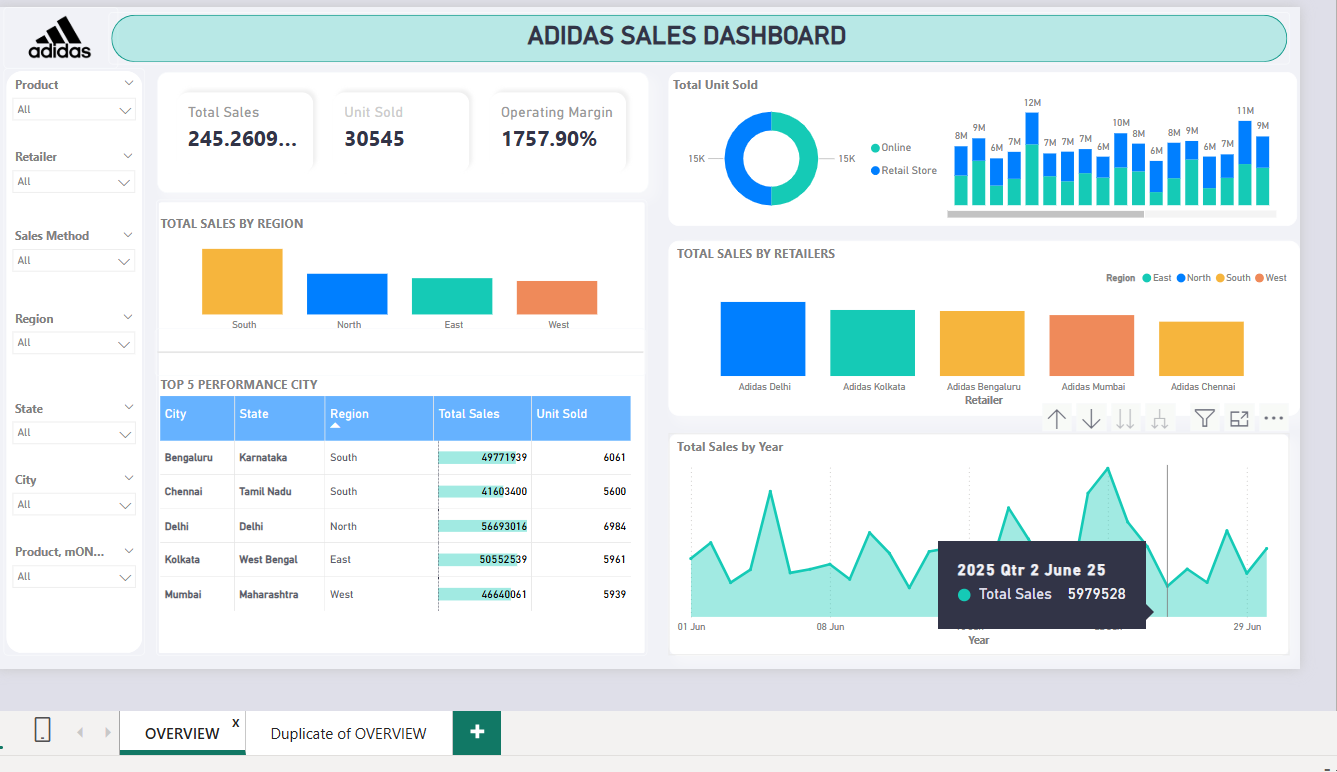

The dashboard page shown, as its layout file describes it:
{"tool":"powerbi","page":{"name":"OVERVIEW","canvas":[1490,757],"ordinal":0},"visuals":[{"type":"shape","box":[768.6,74.3,718.6,175.7],"z":0},{"type":"cardVisual","fields":{"Data":["measures (2).Total Sales","measures (2).Unit Sold","measures (2).Operating Margin"]},"box":[184.3,74.3,561.4,138.6],"z":1000},{"type":"donutChart","title":"Total Unit Sold","fields":{"Y":["measures (2).Unit Sold"],"Category":["Adidas_India_Sales_Dataset_1100_Rows.Sales Method"]},"box":[768.6,78.6,321.4,171.4],"z":2000},{"type":"columnChart","fields":{"Y":["measures (2).Total Sales"],"Category":["Adidas_India_Sales_Dataset_1100_Rows.Invoice Date.Variation.Date Hierarchy.Year","Adidas_India_Sales_Dataset_1100_Rows.Invoice Date.Variation.Date Hierarchy.Quarter","Adidas_India_Sales_Dataset_1100_Rows.Invoice Date.Variation.Date Hierarchy.Month","Adidas_India_Sales_Dataset_1100_Rows.Invoice Date.Variation.Date Hierarchy.Day"],"Series":["Adidas_India_Sales_Dataset_1100_Rows.Sales Method"]},"box":[1058.6,74.3,410,171.4],"z":3000},{"type":"columnChart","title":"TOTAL SALES BY RETAILERS","fields":{"Category":["Adidas_India_Sales_Dataset_1100_Rows.Retailer"],"Y":["measures (2).Total Sales"],"Series":["Adidas_India_Sales_Dataset_1100_Rows.Region"]},"box":[768.6,267.1,721.4,200],"z":4000},{"type":"areaChart","title":"Total Sales by Date","fields":{"Category":["Adidas_India_Sales_Dataset_1100_Rows.Invoice Date.Variation.Date Hierarchy.Year","Adidas_India_Sales_Dataset_1100_Rows.Invoice Date.Variation.Date Hierarchy.Quarter","Adidas_India_Sales_Dataset_1100_Rows.Invoice Date.Variation.Date Hierarchy.Month","Adidas_India_Sales_Dataset_1100_Rows.Invoice Date.Variation.Date Hierarchy.Day"],"Y":["measures (2).Total Sales"]},"box":[768.6,487.1,710,254.3],"z":5000},{"type":"shape","box":[182.9,220,561.4,521.4],"z":6000},{"type":"columnChart","title":"TOTAL SALES BY REGION","fields":{"Y":["measures (2).Total Sales"],"Category":["Adidas_India_Sales_Dataset_1100_Rows.Region"],"Series":["Adidas_India_Sales_Dataset_1100_Rows.Region"]},"box":[182.9,237.1,561.4,141.4],"z":7000},{"type":"pivotTable","title":"TOP 5 PERFORMANCE CITY","fields":{"Rows":["Adidas_India_Sales_Dataset_1100_Rows.City","Adidas_India_Sales_Dataset_1100_Rows.State","Adidas_India_Sales_Dataset_1100_Rows.Region"],"Values":["measures (2).Total Sales","measures (2).Unit Sold"]},"box":[182.9,421.4,560,294.3],"z":8000},{"type":"shape","box":[8.6,70,161.4,671.4],"z":9000},{"type":"slicer","fields":{"Values":["Adidas_India_Sales_Dataset_1100_Rows.Product"]},"box":[8.6,74.9,161.4,85.7],"z":10000},{"type":"slicer","fields":{"Values":["Adidas_India_Sales_Dataset_1100_Rows.Retailer"]},"box":[8.6,157.1,160,92.9],"z":11000},{"type":"slicer","fields":{"Values":["Adidas_India_Sales_Dataset_1100_Rows.Sales Method"]},"box":[8.6,246.6,160,98.6],"z":12000},{"type":"slicer","fields":{"Values":["Adidas_India_Sales_Dataset_1100_Rows.Region"]},"box":[8.6,341.7,160,105.7],"z":13000},{"type":"slicer","fields":{"Values":["Adidas_India_Sales_Dataset_1100_Rows.State"]},"box":[8.6,444,161.4,85.7],"z":14000},{"type":"slicer","fields":{"Values":["Adidas_India_Sales_Dataset_1100_Rows.City"]},"box":[8.6,526.3,161.4,85.7],"z":15000},{"type":"slicer","fields":{"Values":["Adidas_India_Sales_Dataset_1100_Rows.mONTH yEAR"]},"box":[8.6,608.6,161.4,107.1],"z":16000},{"type":"image","box":[8.6,0,131.4,70],"z":17000},{"type":"shape","box":[128.6,5.7,1350,60],"z":18000},{"type":"textbox","box":[587.1,10,405,60],"z":19000},{"type":"shape","box":[181.4,367.1,561.4,54.3],"z":20000}]}

Visuals, with their boxes on the page's 1490x757 design canvas (x1, y1, x2, y2). These are canvas units, not pixel positions in the 1337x772 screenshot, which may show the page scaled, cropped or inside an application window:
shape: crop(769, 74, 1487, 250)
cardVisual - measures (2).Total Sales x measures (2).Unit Sold: crop(184, 74, 746, 213)
"Total Unit Sold" donutChart: crop(769, 79, 1090, 250)
columnChart - measures (2).Total Sales x Adidas_India_Sales_Dataset_1100_Rows.Invoice Date.Variation.Date Hierarchy.Year: crop(1059, 74, 1469, 246)
"TOTAL SALES BY RETAILERS" columnChart: crop(769, 267, 1490, 467)
"Total Sales by Date" areaChart: crop(769, 487, 1479, 741)
shape: crop(183, 220, 744, 741)
"TOTAL SALES BY REGION" columnChart: crop(183, 237, 744, 378)
"TOP 5 PERFORMANCE CITY" pivotTable: crop(183, 421, 743, 716)
shape: crop(9, 70, 170, 741)
slicer - Adidas_India_Sales_Dataset_1100_Rows.Product: crop(9, 75, 170, 161)
slicer - Adidas_India_Sales_Dataset_1100_Rows.Retailer: crop(9, 157, 169, 250)
slicer - Adidas_India_Sales_Dataset_1100_Rows.Sales Method: crop(9, 247, 169, 345)
slicer - Adidas_India_Sales_Dataset_1100_Rows.Region: crop(9, 342, 169, 447)
slicer - Adidas_India_Sales_Dataset_1100_Rows.State: crop(9, 444, 170, 530)
slicer - Adidas_India_Sales_Dataset_1100_Rows.City: crop(9, 526, 170, 612)
slicer - Adidas_India_Sales_Dataset_1100_Rows.mONTH yEAR: crop(9, 609, 170, 716)
image: crop(9, 0, 140, 70)
shape: crop(129, 6, 1479, 66)
textbox: crop(587, 10, 992, 70)
shape: crop(181, 367, 743, 421)
